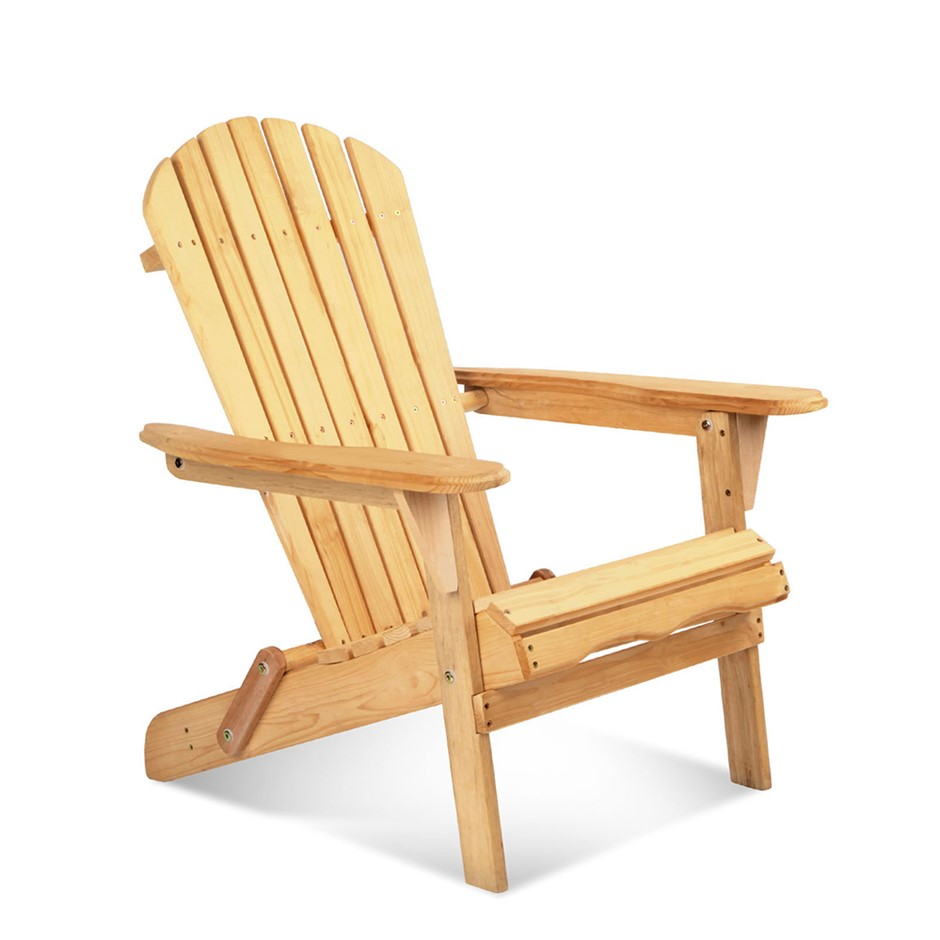chairs: (131, 115, 830, 911)
